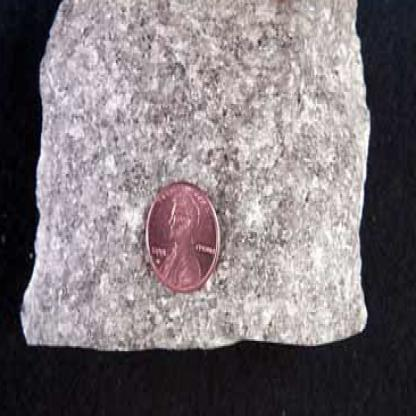Metamorphic_Marble: (11, 0, 374, 360)
